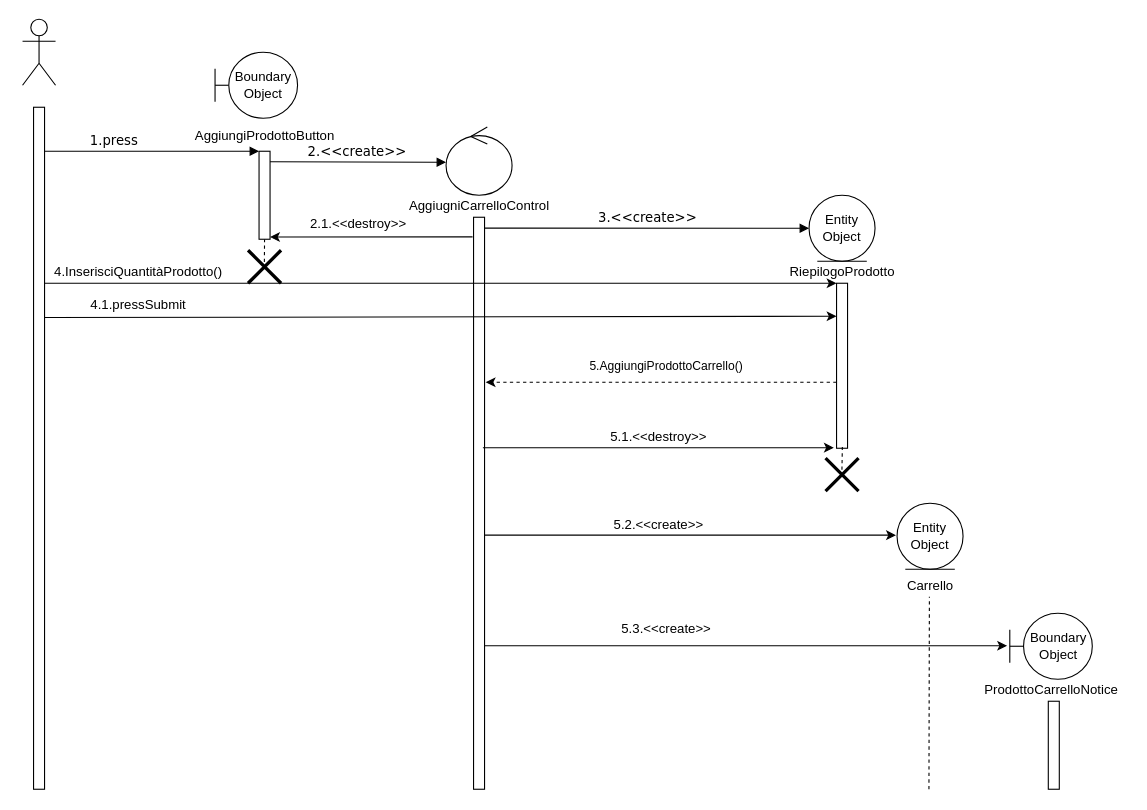
The diagram is 1147 pixels wide and 810 high, and some of its shapes have lost their labels. The box of each missing label's shape, as (x1, y1, x2, y2) in pixels:
Cliente: (21, 18, 56, 85)
Control Object: (445, 126, 512, 195)
